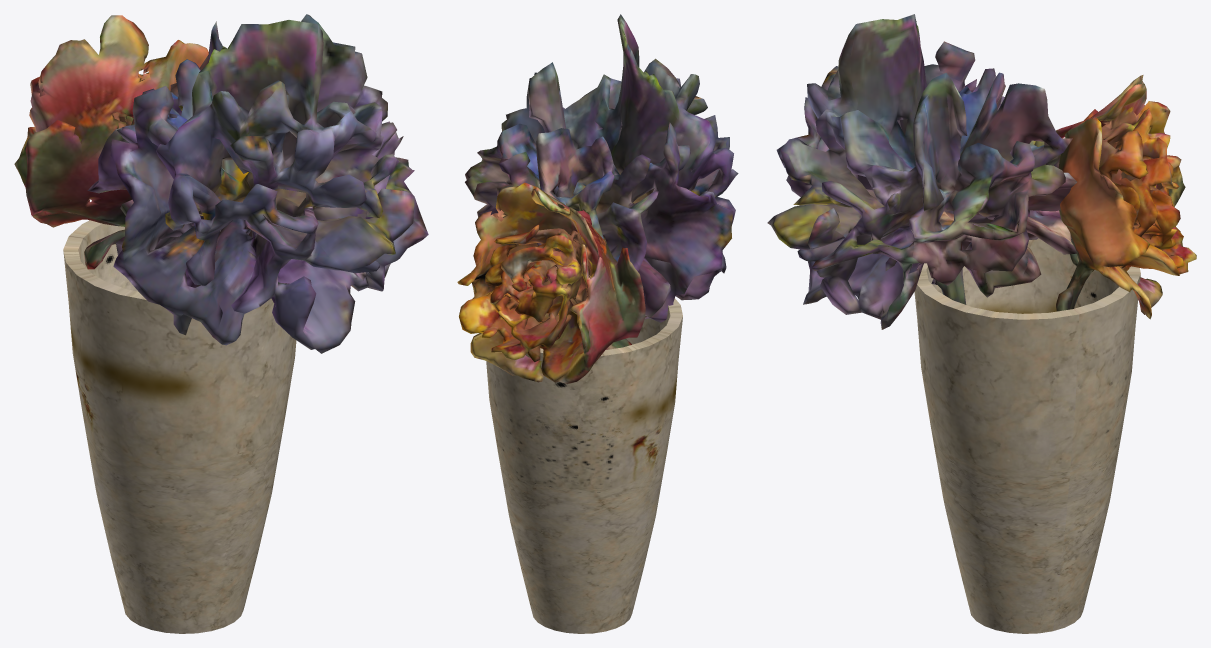
Rendered from Purple_Flower_Vase.fbx.
3 views of the same model, side by side, from view 1: azimuth 30°, elevation 25°; view 2: azimuth 150°, elevation 25°; view 3: azimuth 270°, elevation 25° (orthographic). The views are drawn at different scales.
Parts seen in each view (by area): view 1: flower4, Sun flower with Vase, flower1; view 2: Sun flower with Vase, flower4, flower1; view 3: flower4, Sun flower with Vase, flower1.
Boxes of the visible parts, x1=… form: flower4: x1=87, y1=14, x2=428, y2=353; Sun flower with Vase: x1=63, y1=220, x2=296, y2=633; flower1: x1=14, y1=15, x2=208, y2=269; Sun flower with Vase: x1=486, y1=298, x2=682, y2=633; flower4: x1=465, y1=14, x2=738, y2=322; flower1: x1=457, y1=182, x2=645, y2=383; flower4: x1=767, y1=14, x2=1077, y2=329; Sun flower with Vase: x1=914, y1=238, x2=1140, y2=633; flower1: x1=1056, y1=75, x2=1196, y2=319.
Bounding box in the file's own units: 0.3491 × 0.7377 × 0.4736.
